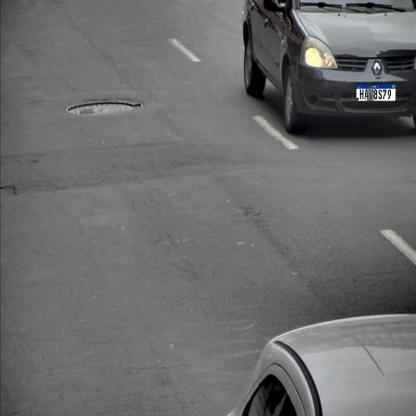PlacaM: (356, 83, 396, 102)
